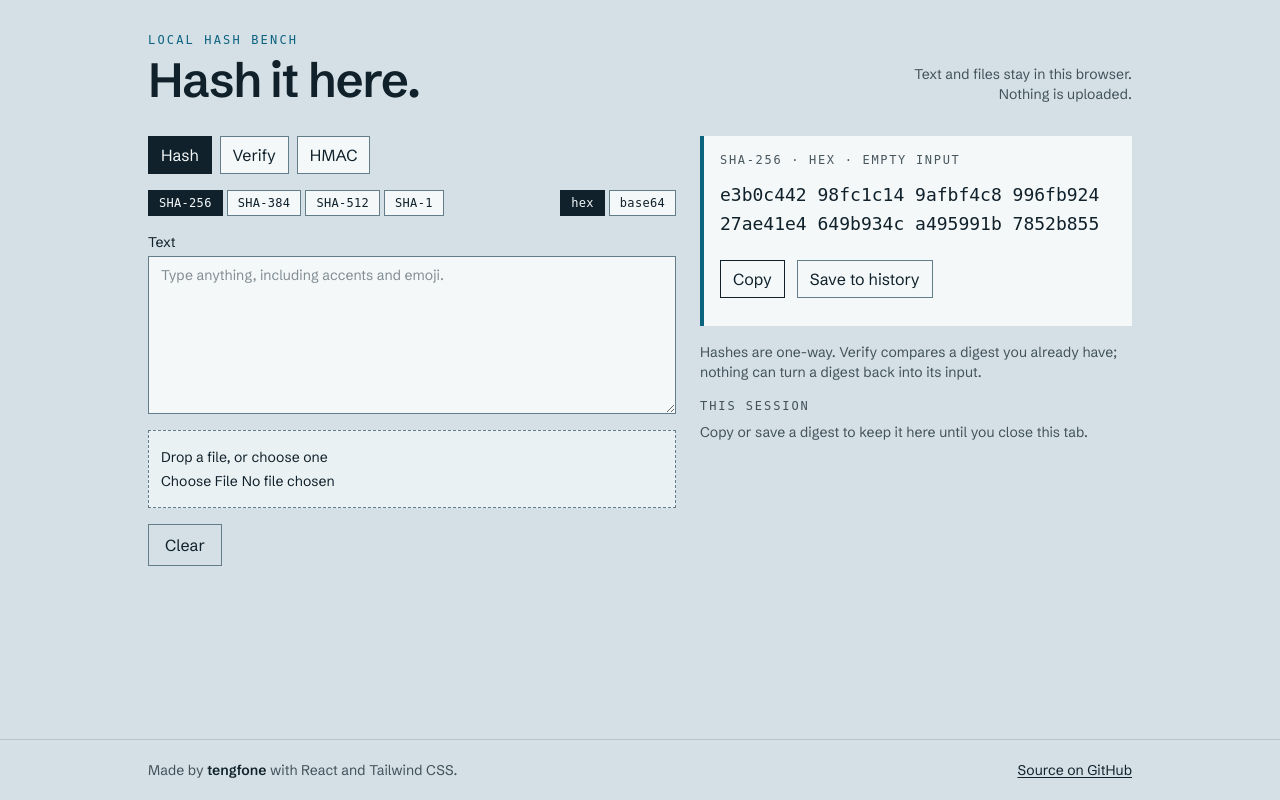
live digest › switches between hex and base64 without recomputing a stale value
Type "abc" into the text box labelled "Text" at coordinates (412, 335), box 148,256 -> 676,414
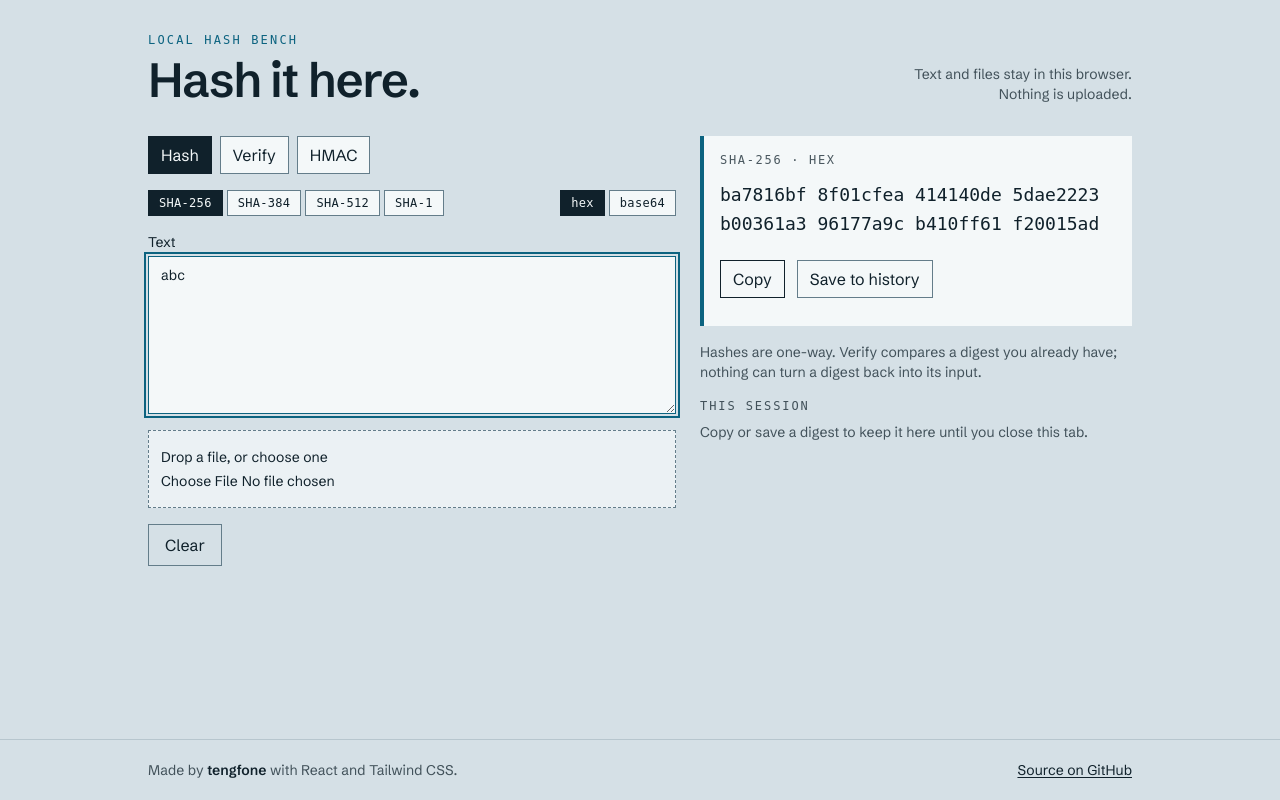
Click the radio button labelled "base64" at coordinates (642, 203), box 609,190 -> 676,216
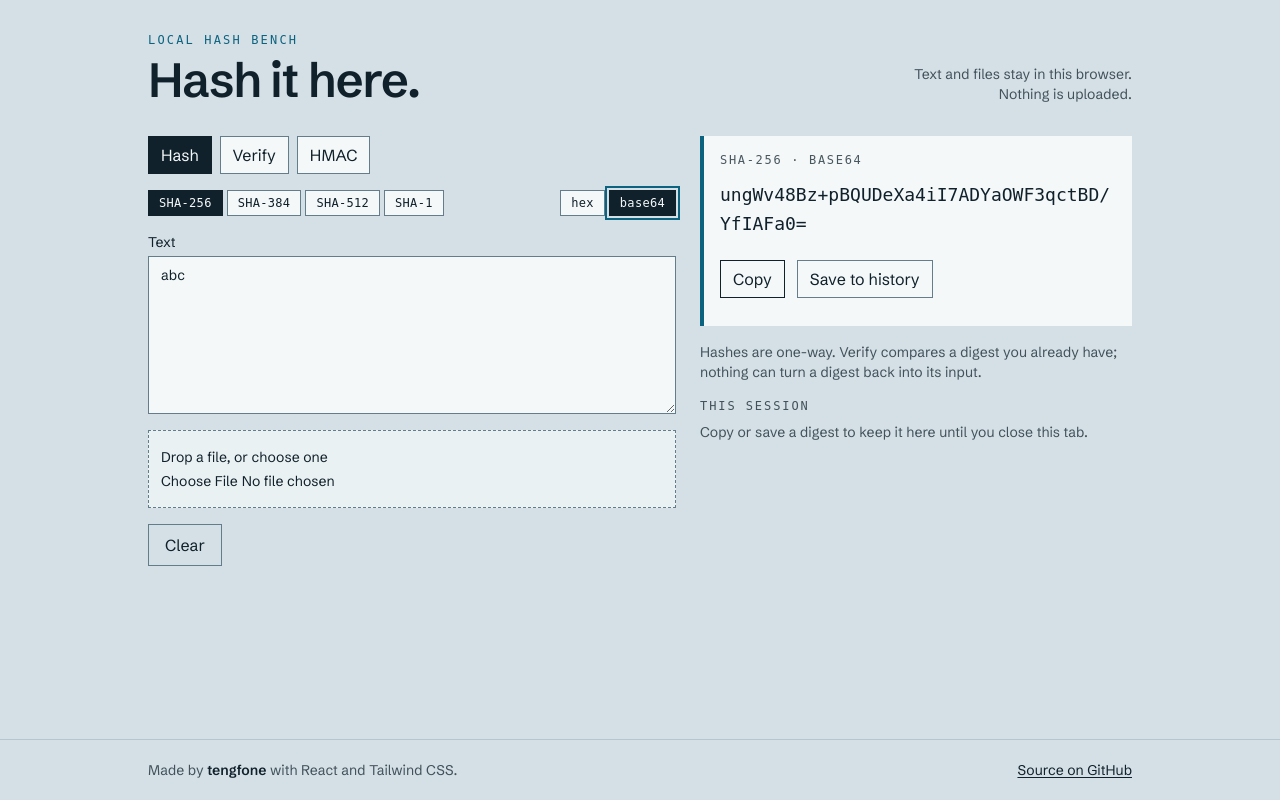
Check: the text with test id "digest" reads "ungWv48Bz+pBQUDeXa4iI7ADYaOWF3qctBD/YfIAFa0=", box 720,184 -> 1110,234
